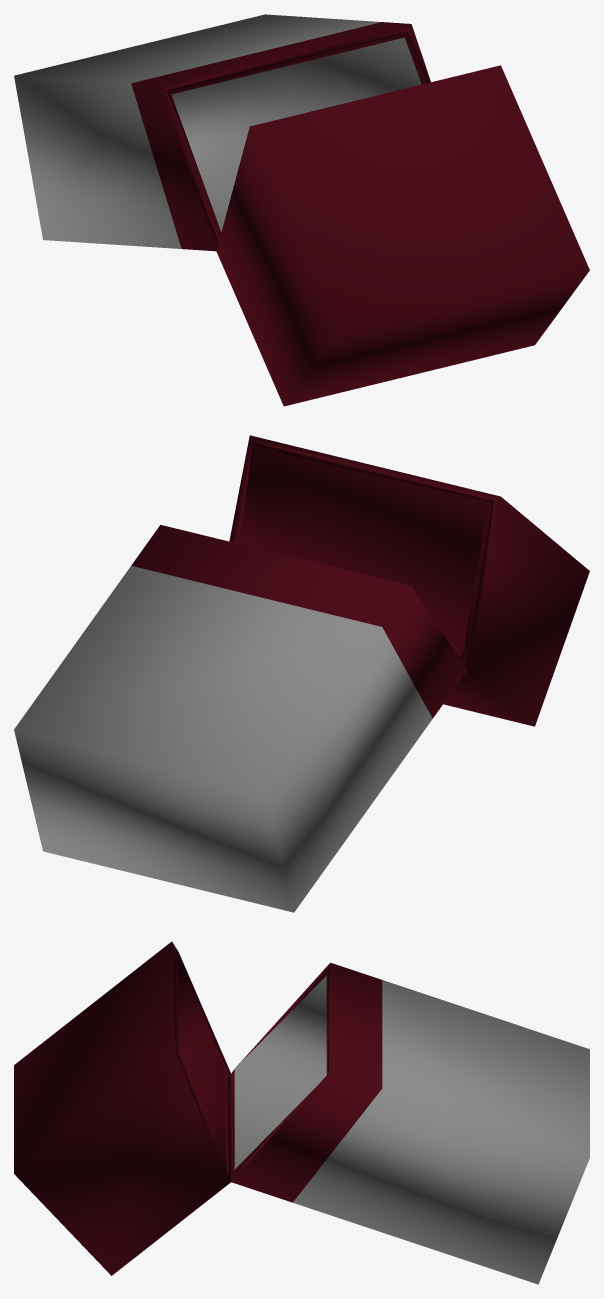
The model's file is Cigarette_Box.fbx.
3 renders of one model, top to bottom at view 1: azimuth 30°, elevation 25°; view 2: azimuth 150°, elevation 25°; view 3: azimuth 270°, elevation 25°, orthographic. The views are drawn at different scales.
Parts seen in each view (by area): view 1: polySurface16; view 2: polySurface16; view 3: polySurface16.
Boxes of the visible parts, x1,y1,x2,y2 form: polySurface16: [14, 14, 589, 406]; polySurface16: [14, 435, 589, 912]; polySurface16: [14, 941, 589, 1284].
Bounding box in the file's own units: 18.46 × 18.61 × 41.37.
